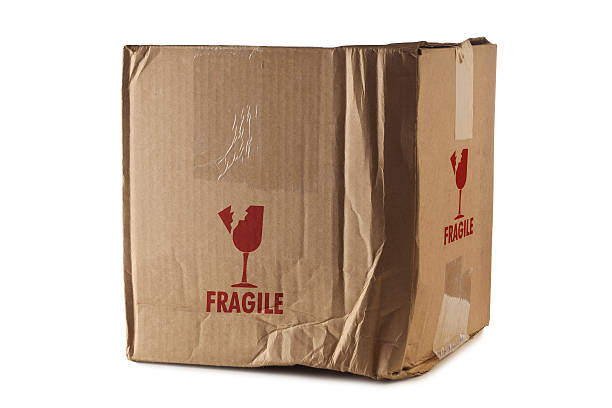damaged package: (263, 242, 434, 384)
